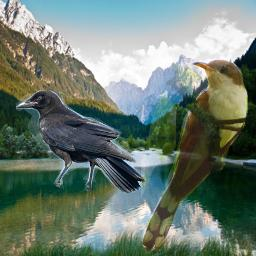Crow: (16, 90, 146, 193)
Cuckoo: (141, 59, 248, 254)
